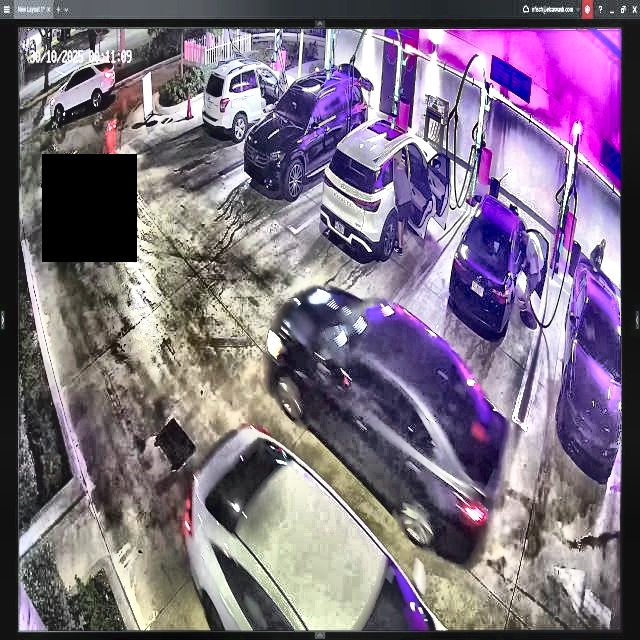Car: (265, 284, 507, 564), (180, 423, 444, 640), (326, 115, 446, 261), (248, 67, 366, 194), (447, 195, 542, 329), (203, 58, 294, 142)
